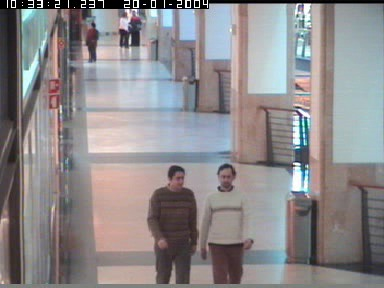person: (199, 163, 254, 284), (146, 165, 199, 284), (85, 21, 99, 62), (118, 11, 131, 47)
